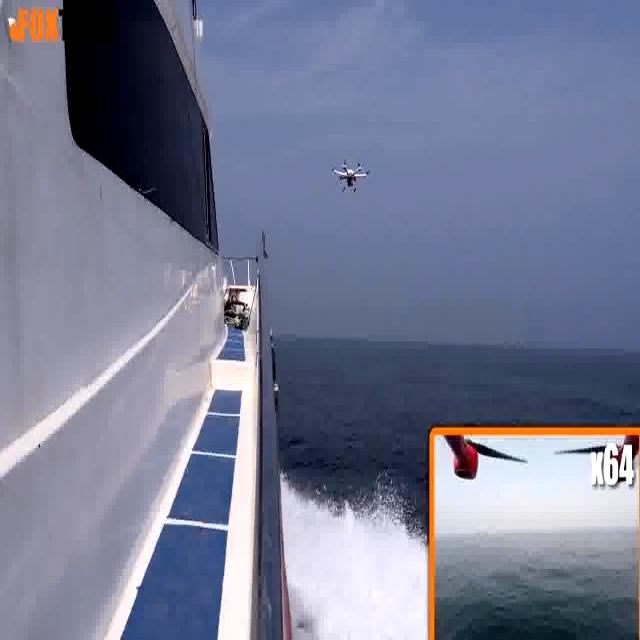drone: (324, 147, 374, 208)
